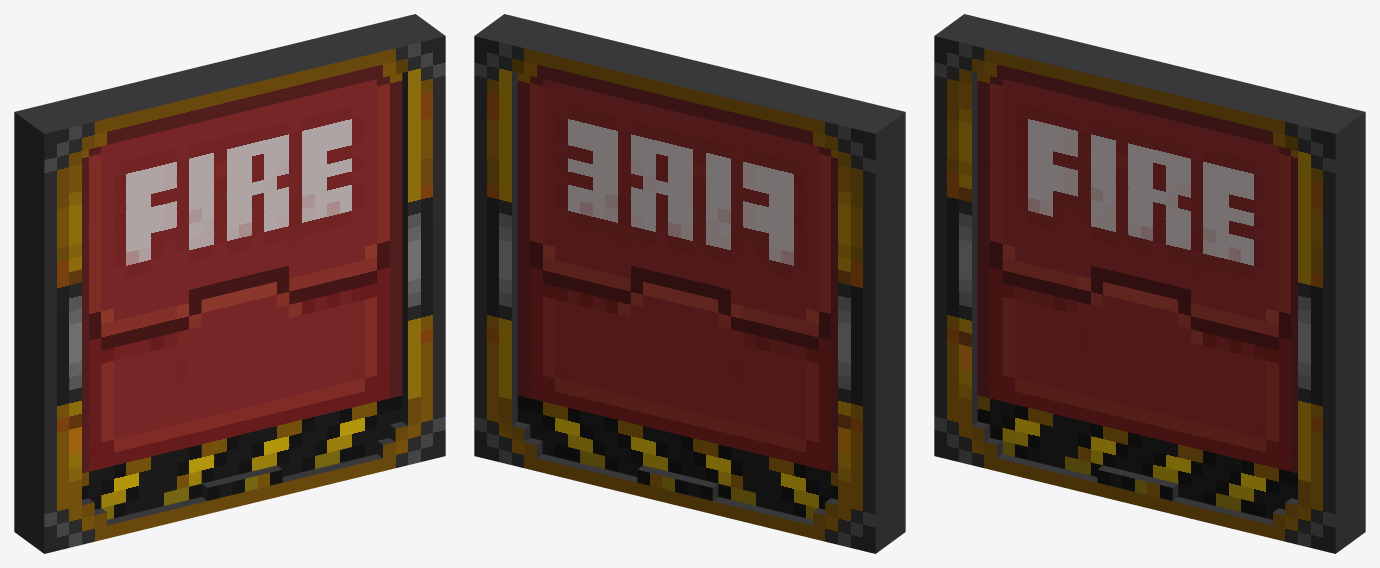
The model's file is firelock_heavy.glb.
3 views of the same model, side by side, from view 1: azimuth 30°, elevation 25°; view 2: azimuth 150°, elevation 25°; view 3: azimuth 330°, elevation 25° (orthographic).
Visible parts, largest first — view 1: Frame, Door_Upper, Door_Lower; view 2: Frame, Door_Upper, Door_Lower; view 3: Frame, Door_Upper, Door_Lower.
Boxes of the visible parts, left/top/right/bottom form: Frame: left=14, top=14, right=445, bottom=553; Door_Upper: left=82, top=73, right=402, bottom=350; Door_Lower: left=82, top=251, right=402, bottom=519; Frame: left=474, top=14, right=905, bottom=553; Door_Upper: left=517, top=73, right=837, bottom=350; Door_Lower: left=517, top=251, right=837, bottom=519; Frame: left=934, top=14, right=1365, bottom=553; Door_Upper: left=977, top=73, right=1297, bottom=353; Door_Lower: left=977, top=251, right=1297, bottom=519.
Bounding box in the file's own units: 2 × 2 × 0.26.
2 materials, 1 textured.
